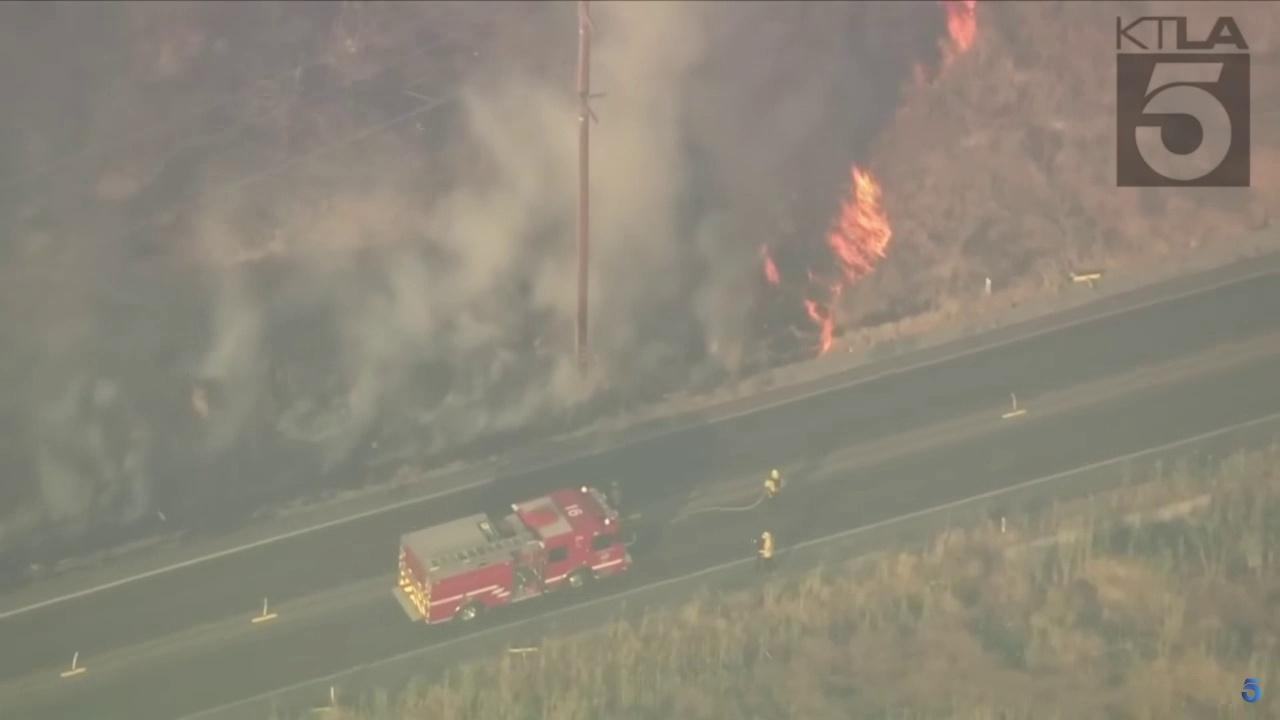fire: (802, 159, 894, 361), (938, 0, 979, 67), (761, 242, 783, 289)
smoke: (0, 0, 949, 555)
